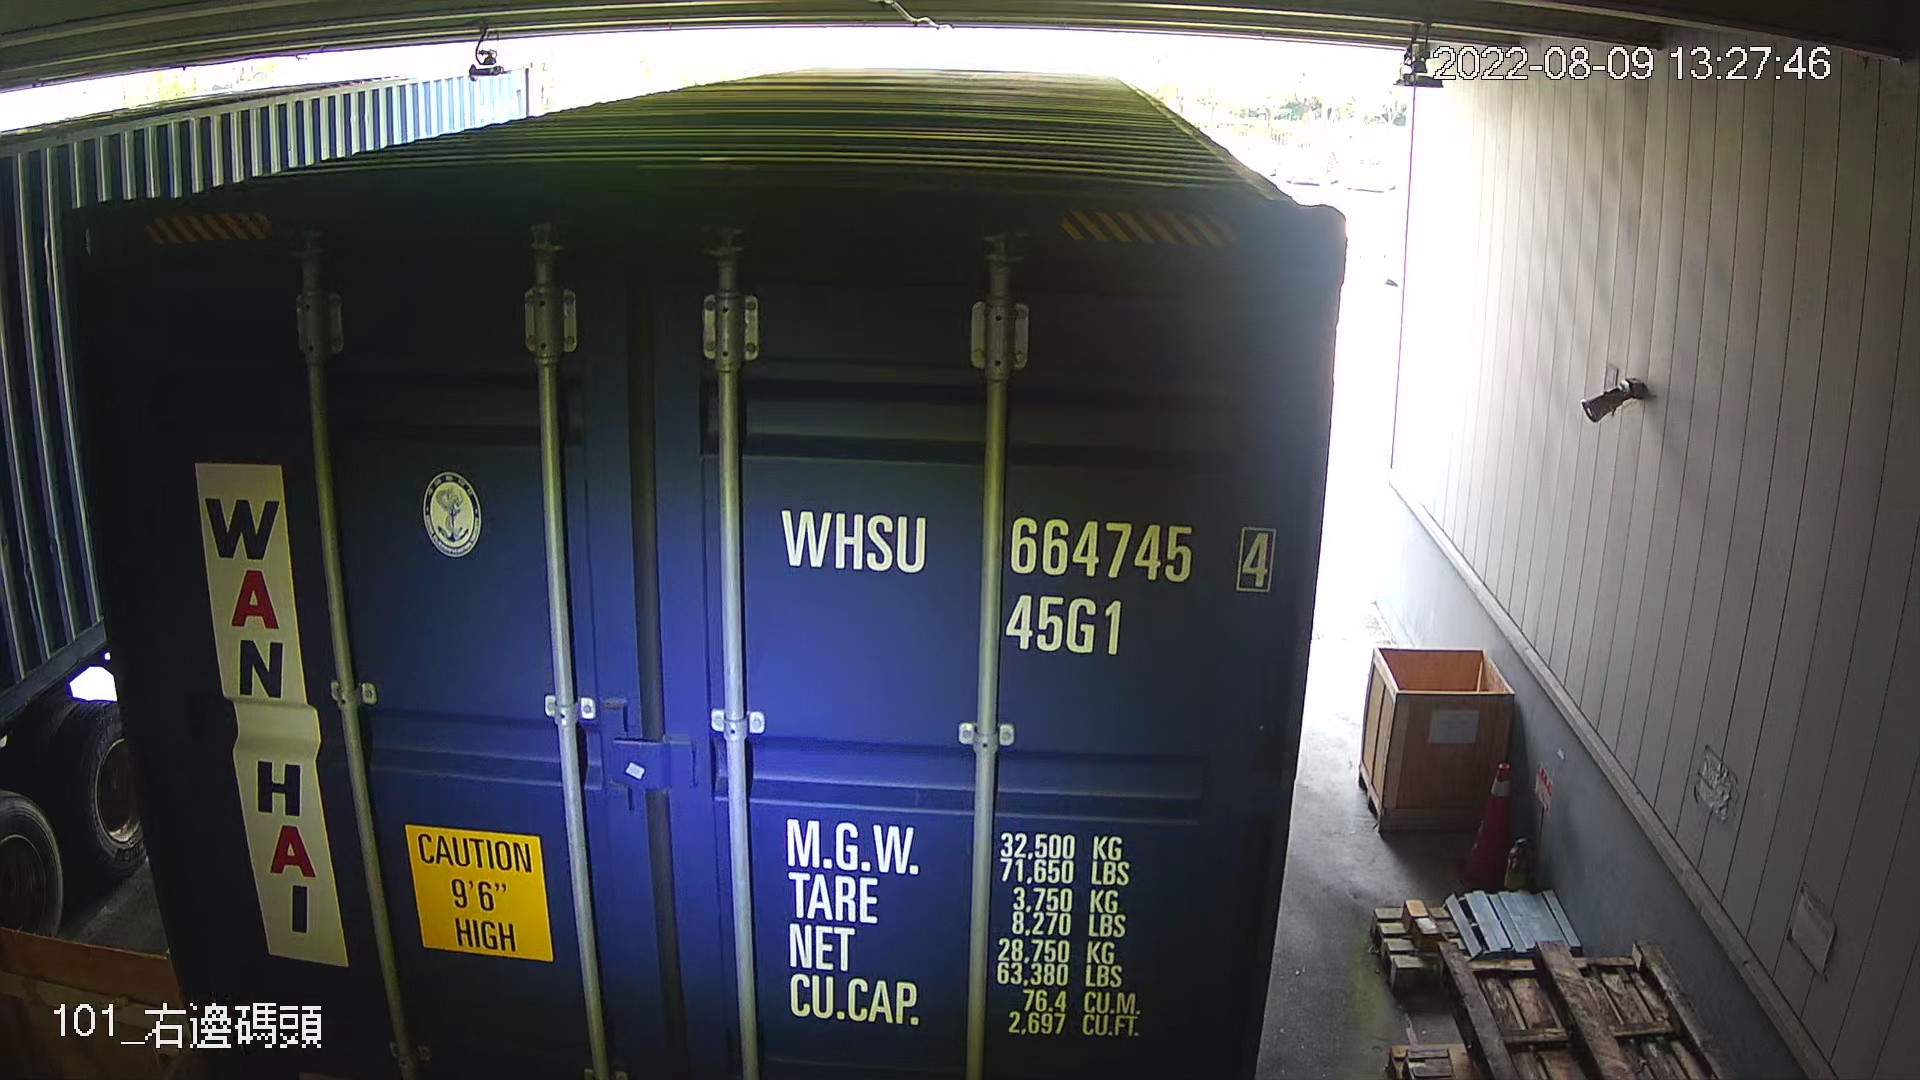container: (769, 487, 1287, 670)
